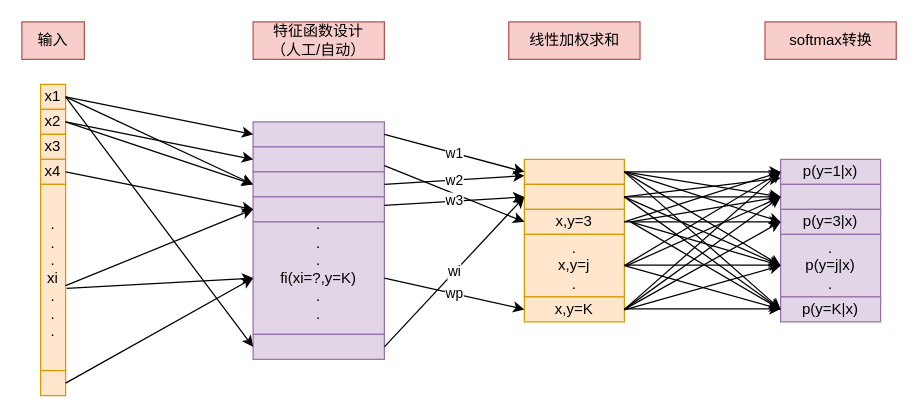
Image size: 919x418. Some labels were removed from this diagram. The centre of each missing label's shape, as x and y in pixels:
f1(x1=?,y=1): pixel 318 134
f1(x2=?,y=3): pixel 318 159
f2(x1=?,x2=?,y=1): pixel 318 184
f3(x4=?,xi=?,y=2): pixel 318 209
fm(x1=?,y=2): pixel 318 346
p(y=2|x): pixel 830 196
x,y=1: pixel 573 171
x,y=2: pixel 573 196
xn: pixel 52 382
